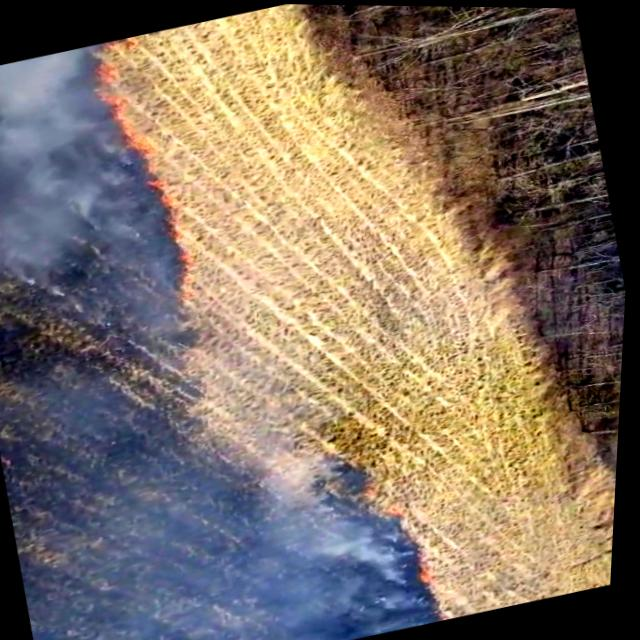smoke: (0, 2, 338, 363), (15, 436, 489, 640)
